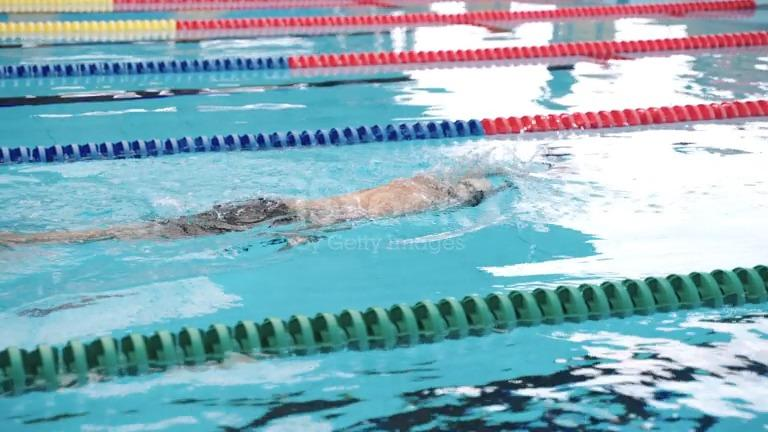Swimming: (50, 134, 519, 283)
